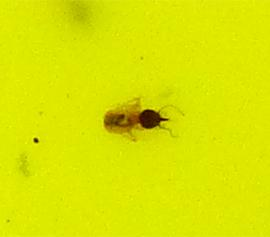Isoptera: (100, 100, 170, 137)
